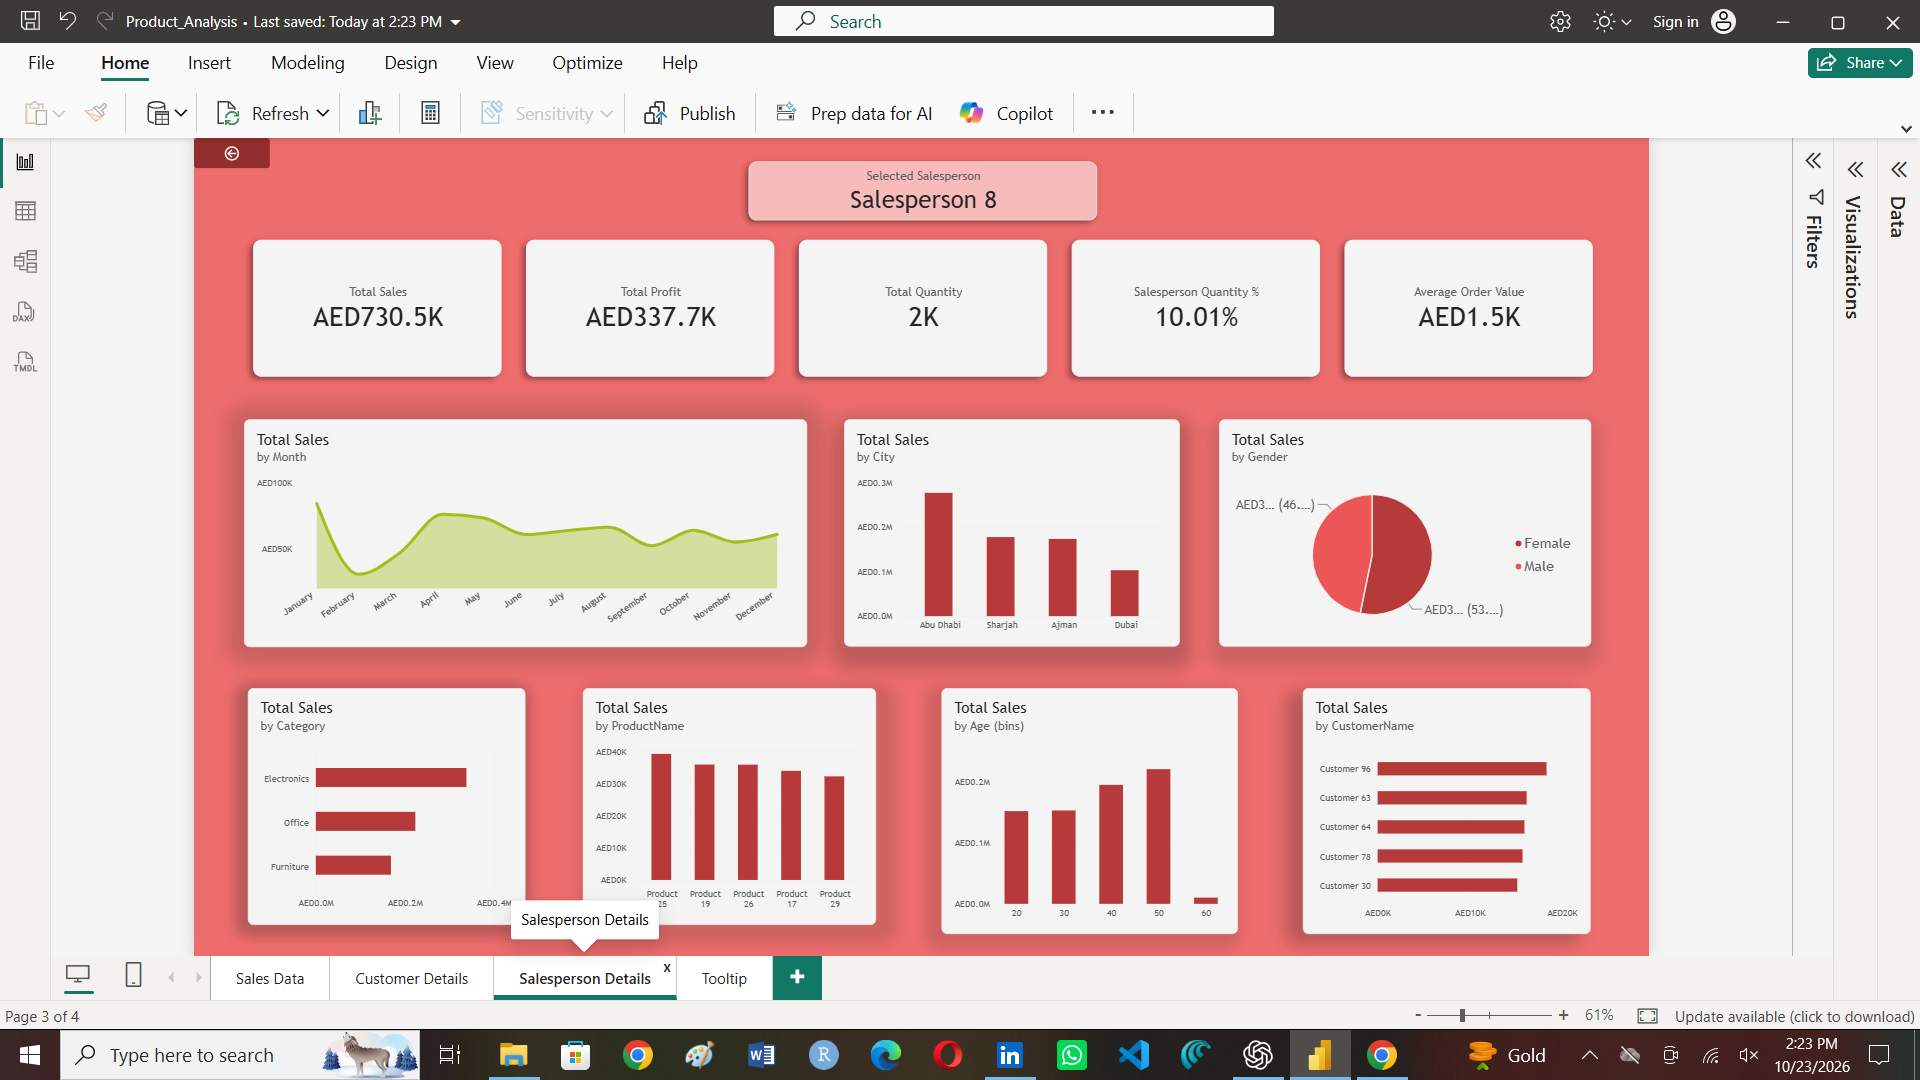

What the dashboard file says about the page in this screenshot:
{"tool":"powerbi","page":{"name":"Salesperson Details","canvas":[1920,1080],"ordinal":2},"visuals":[{"type":"actionButton","box":[0,0,100,40],"z":0},{"type":"cardVisual","fields":{"Data":["Measure Table.Total Sales","Measure Table.Total Profit","Measure Table.Total Quantity","Measure Table.Salesperson Quantity %","Measure Table.Average Order Value"]},"box":[65.9,121.4,1792.8,205.8],"z":1},{"type":"cardVisual","fields":{"Data":["Measure Table.Selected Salesperson"]},"box":[720.4,20.6,482.1,100],"z":4},{"type":"lineChart","fields":{"Category":["Date Table.Month"],"Y":["Measure Table.Total Sales"]},"box":[65.9,370.5,743.1,300.5],"z":5},{"type":"clusteredBarChart","fields":{"Category":["Products.Category"],"Y":["Measure Table.Total Sales"]},"box":[71.4,725,366.1,312.5],"z":6},{"type":"columnChart","fields":{"Category":["Customers.City"],"Y":["Measure Table.Total Sales"]},"box":[857.1,371.4,442.9,300],"z":7},{"type":"columnChart","fields":{"Category":["Customers.Age (bins)"],"Y":["Measure Table.Total Sales"]},"box":[985.7,725,391.1,325],"z":8},{"type":"pieChart","fields":{"Category":["Customers.Gender"],"Y":["Measure Table.Total Sales"]},"box":[1351.8,371.4,491.1,300],"z":9},{"type":"columnChart","fields":{"Category":["Products.ProductName"],"Y":["Measure Table.Total Sales"]},"box":[512.5,725,387.5,312.5],"z":10},{"type":"actionButton","box":[0,0,100,40],"z":11},{"type":"clusteredBarChart","fields":{"Category":["Customers.CustomerName"],"Y":["Measure Table.Total Sales"]},"box":[1462.5,725,380.4,325],"z":12}]}

Visuals, with their boxes on the page's 1920x1080 design canvas (x1, y1, x2, y2). These are canvas units, not pixel positions in the 1920x1080 screenshot, which may show the page scaled, cropped or inside an application window:
actionButton: pyautogui.locateOnScreen(0, 0, 100, 40)
cardVisual - Measure Table.Total Sales x Measure Table.Total Profit: pyautogui.locateOnScreen(66, 121, 1859, 327)
cardVisual - Measure Table.Selected Salesperson: pyautogui.locateOnScreen(720, 21, 1202, 121)
lineChart - Date Table.Month x Measure Table.Total Sales: pyautogui.locateOnScreen(66, 370, 809, 671)
clusteredBarChart - Products.Category x Measure Table.Total Sales: pyautogui.locateOnScreen(71, 725, 438, 1038)
columnChart - Customers.City x Measure Table.Total Sales: pyautogui.locateOnScreen(857, 371, 1300, 671)
columnChart - Customers.Age (bins) x Measure Table.Total Sales: pyautogui.locateOnScreen(986, 725, 1377, 1050)
pieChart - Customers.Gender x Measure Table.Total Sales: pyautogui.locateOnScreen(1352, 371, 1843, 671)
columnChart - Products.ProductName x Measure Table.Total Sales: pyautogui.locateOnScreen(512, 725, 900, 1038)
actionButton: pyautogui.locateOnScreen(0, 0, 100, 40)
clusteredBarChart - Customers.CustomerName x Measure Table.Total Sales: pyautogui.locateOnScreen(1462, 725, 1843, 1050)
